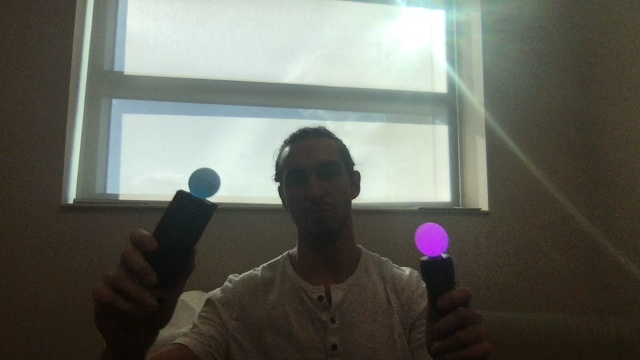wand: (414, 223, 448, 255), (189, 168, 221, 196)
